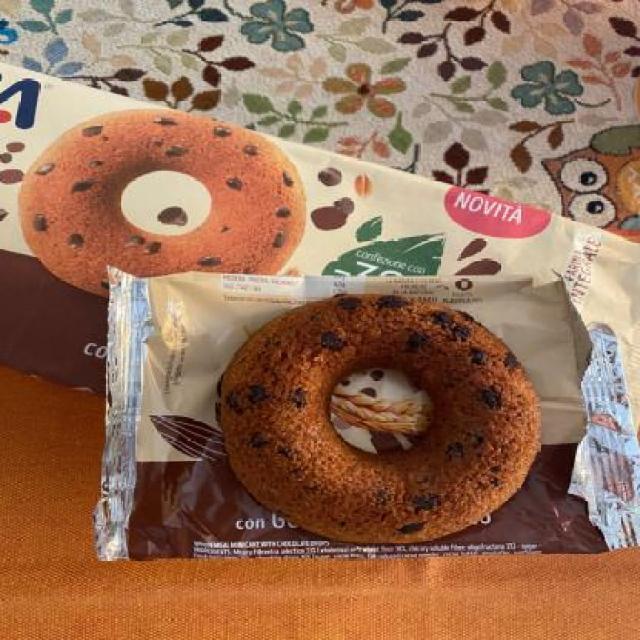Merendine packaged: (223, 294, 546, 544)
